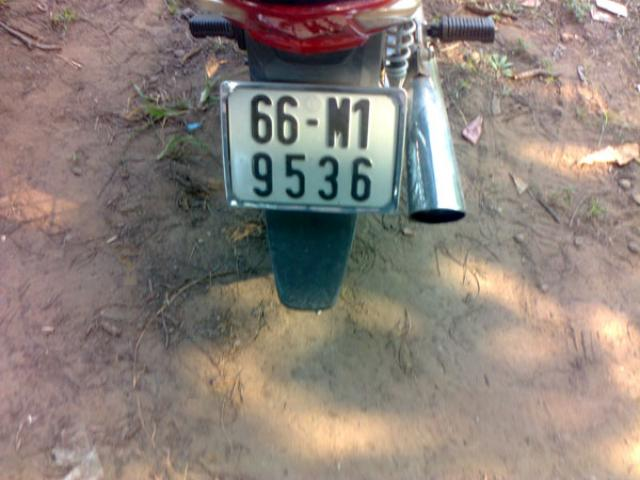plate: (226, 84, 398, 206)
